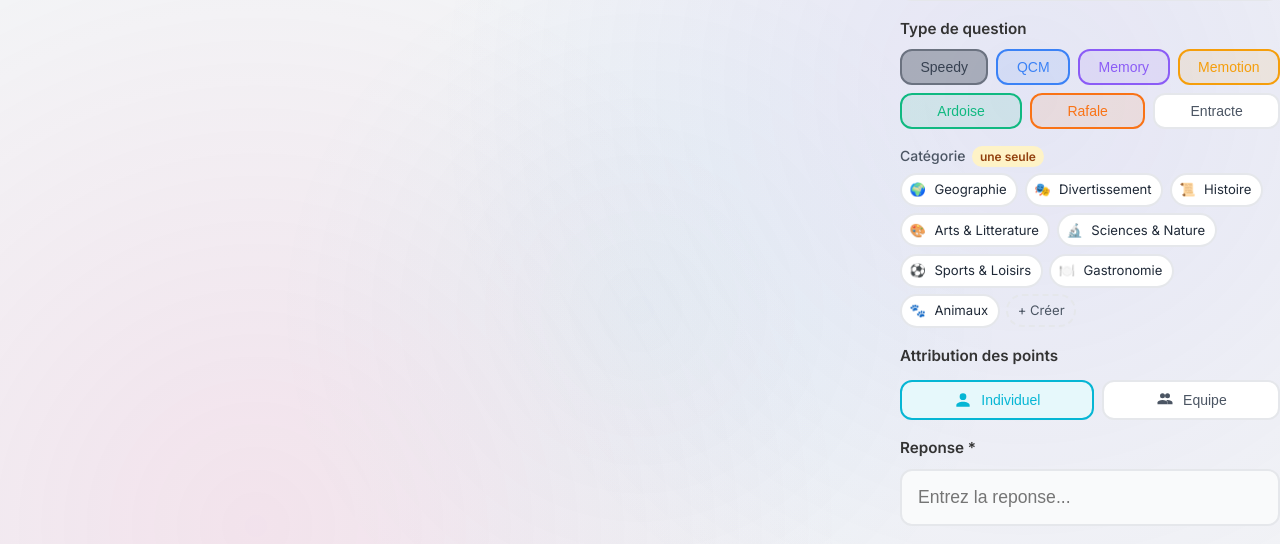
Test: QuestionsPage — Bouton + catégorie (#97) › cliquer sur "Annuler" masque le formulaire inline
(page scrolled)
Click the button titled "Créer une catégorie".
click(1041, 311)  # box [1006,294,1076,328]
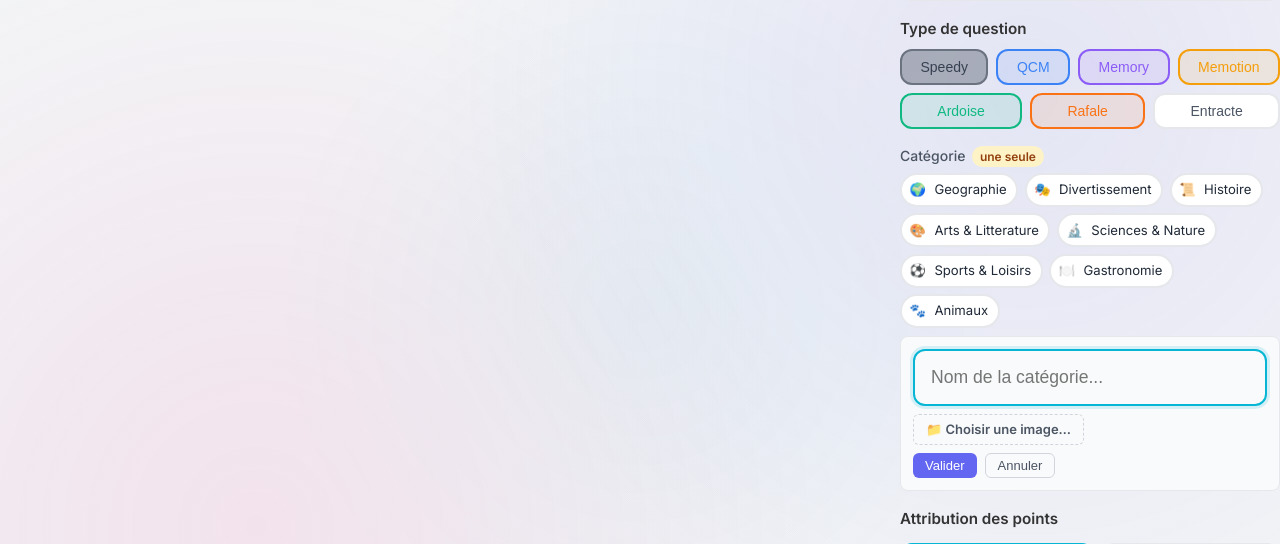
Click the button with class "add-category-cancel".
click(1020, 465)  # box [984,453,1055,478]
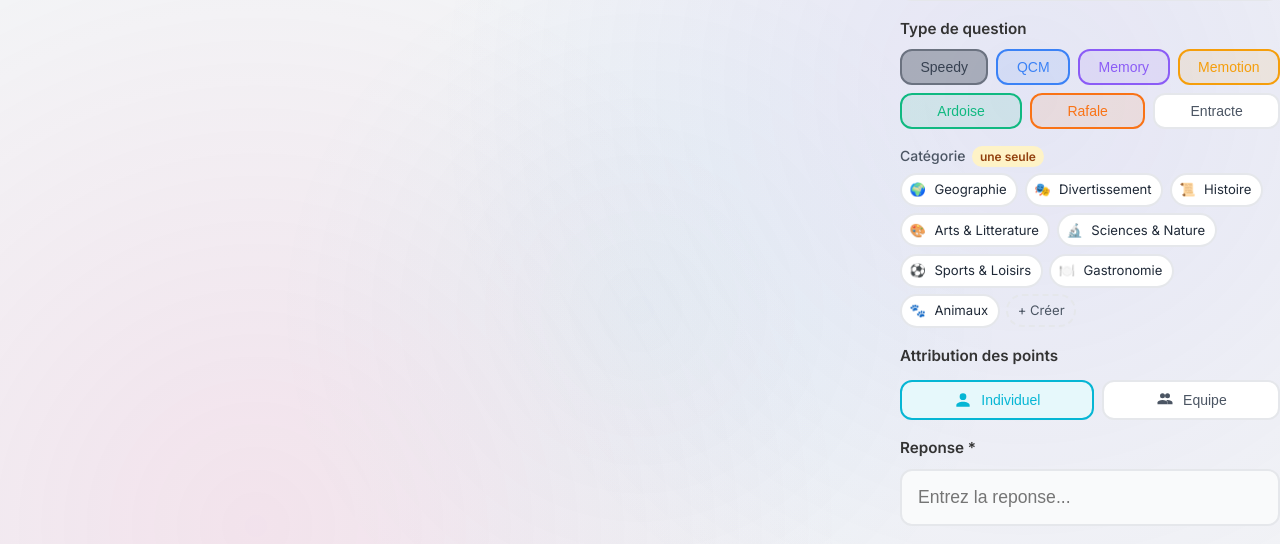
Result: the element with class "add-category-inline" is gone
Result: the button titled "Créer une catégorie" is shown at [1006,294,1076,328]
